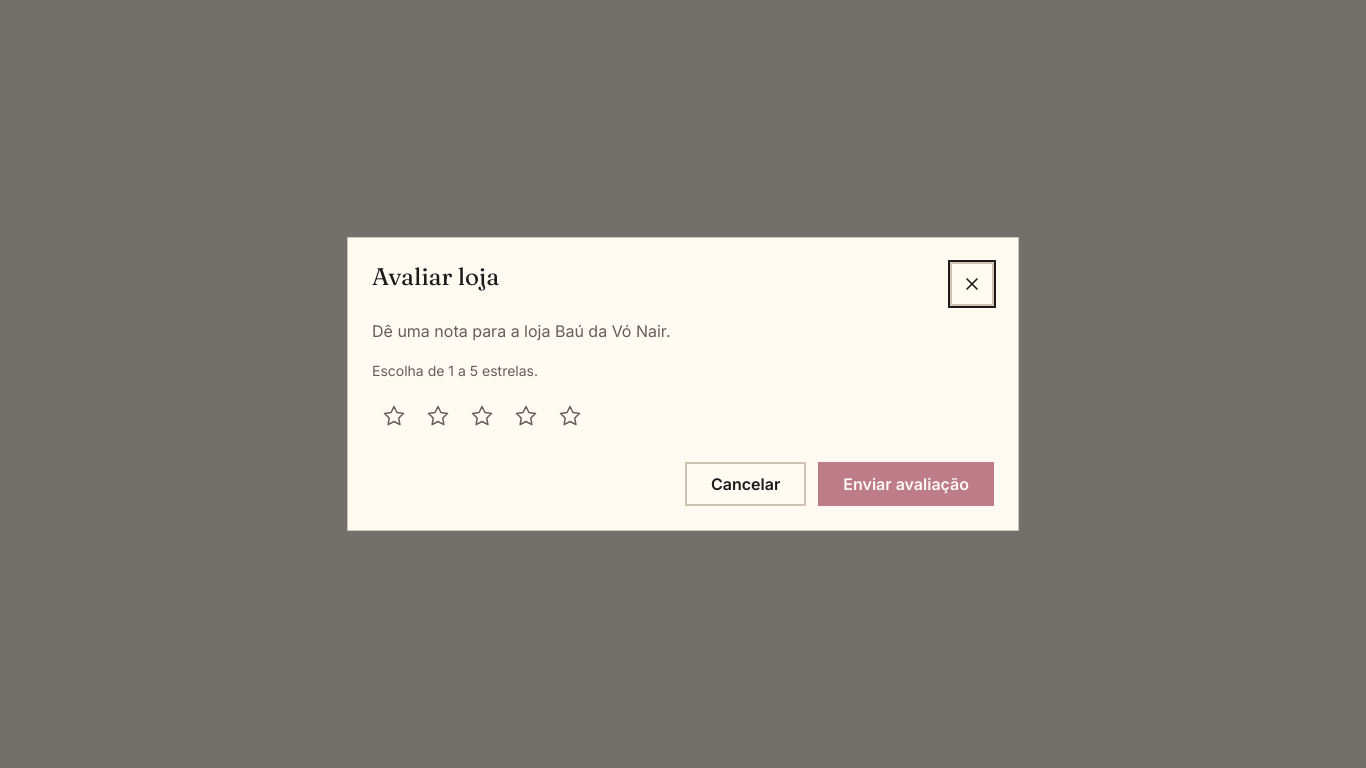
Test case: <RateStoreDialog /> › 403 RATING_NOT_ALLOWED mostra a mensagem do back e mantém a nota
Click the radio button named "3 de 5 estrelas" at (482, 416), box [460,394,504,438]
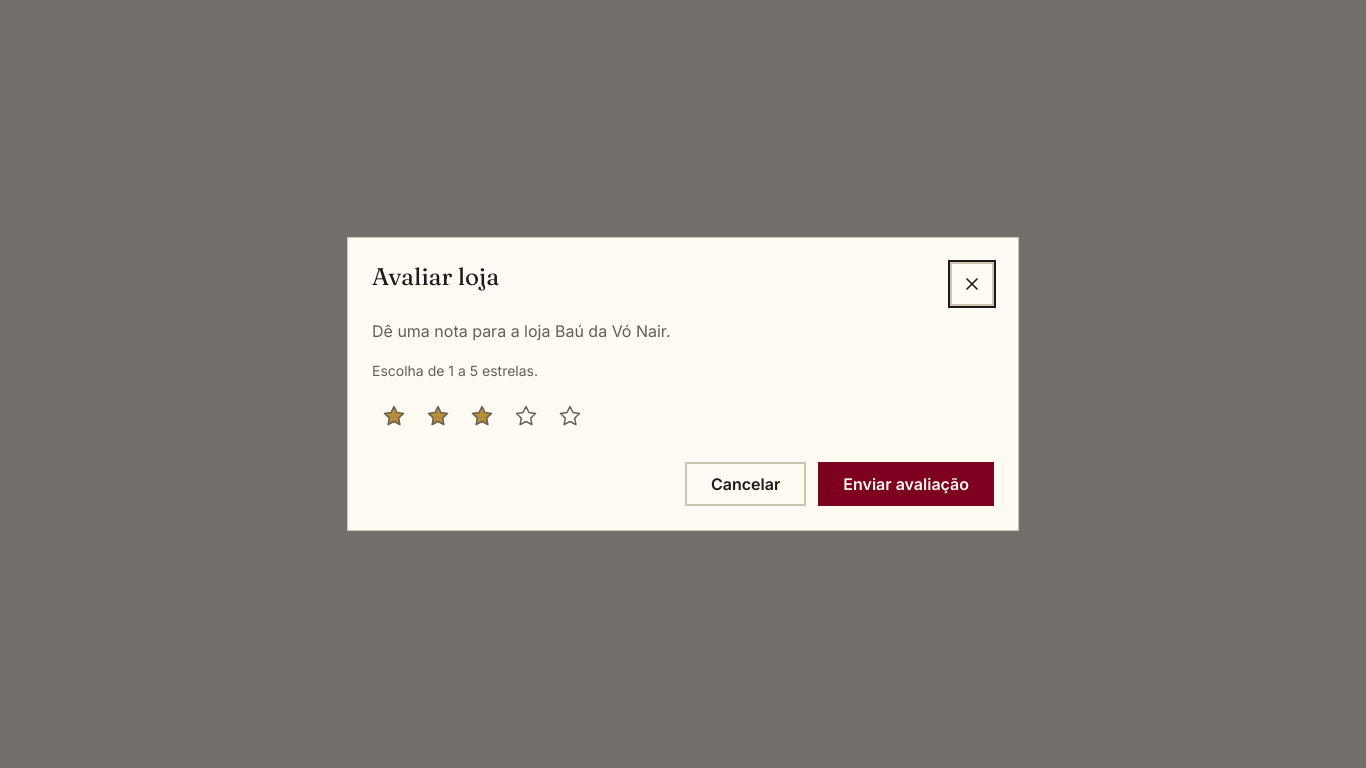
Click the button "Enviar avaliação" at (906, 484), box [818,462,994,506]
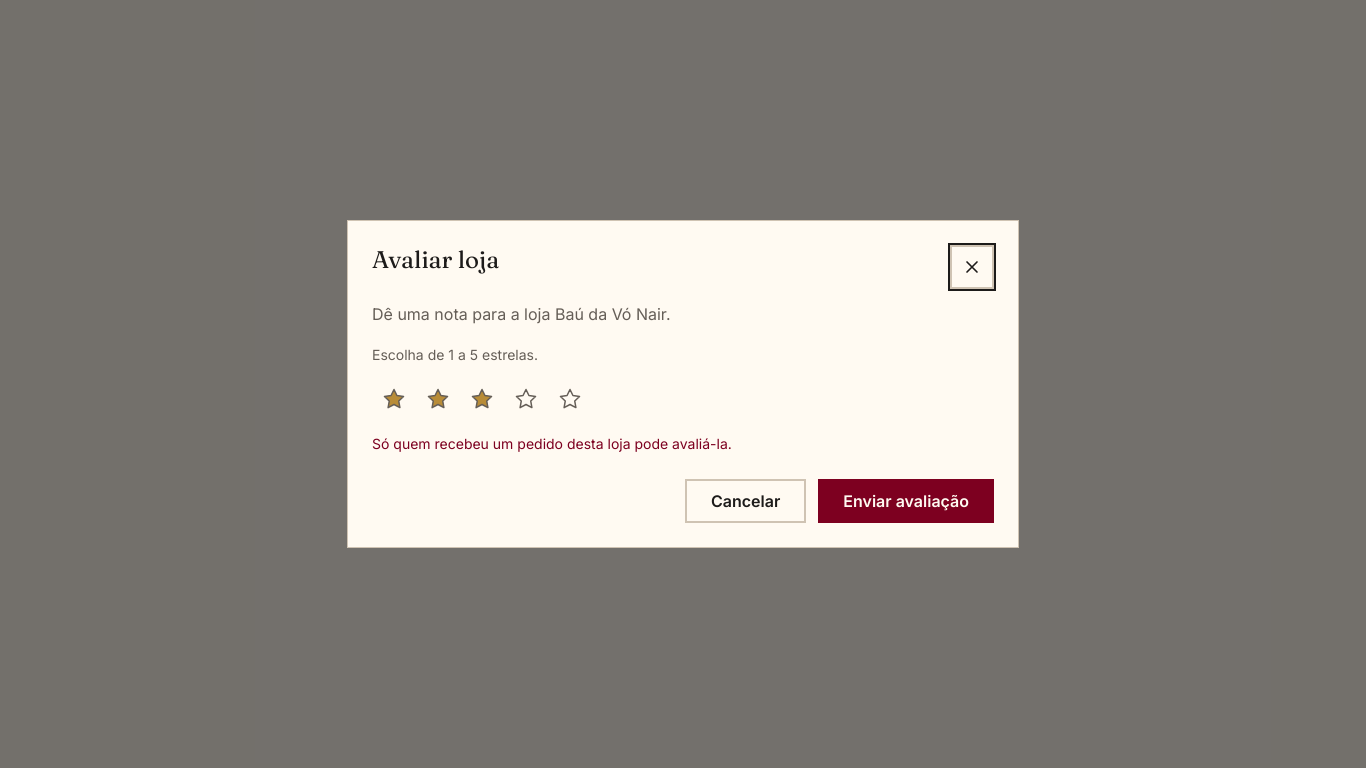
Expected: the radio button named "3 de 5 estrelas" is checked, [460,377,504,421]
Expected: the button "Enviar avaliação" is enabled, [818,479,994,523]
Expected: the message reads "Só quem recebeu um pedido desta loja pode avaliá-la.", [372,435,732,452]
